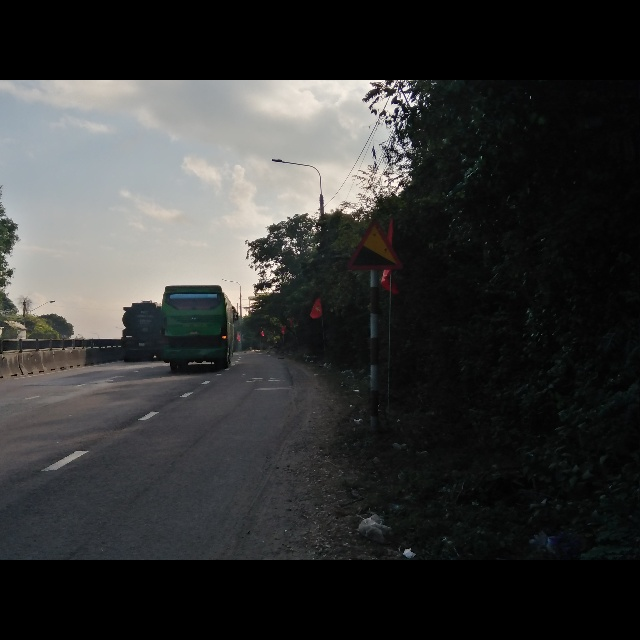Dốc lên nguy hiểm: (342, 215, 403, 273)
